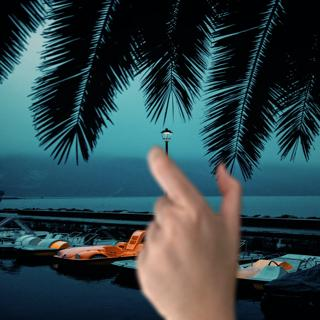Irritated: (122, 141, 253, 315)
